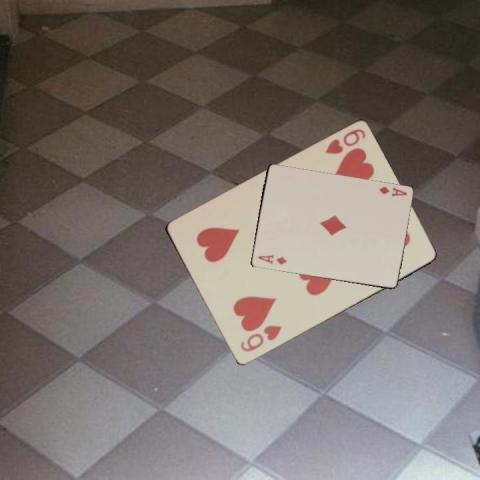6h: (237, 322, 284, 354), (321, 126, 368, 157)
Ad: (255, 252, 288, 266), (376, 184, 408, 198)
